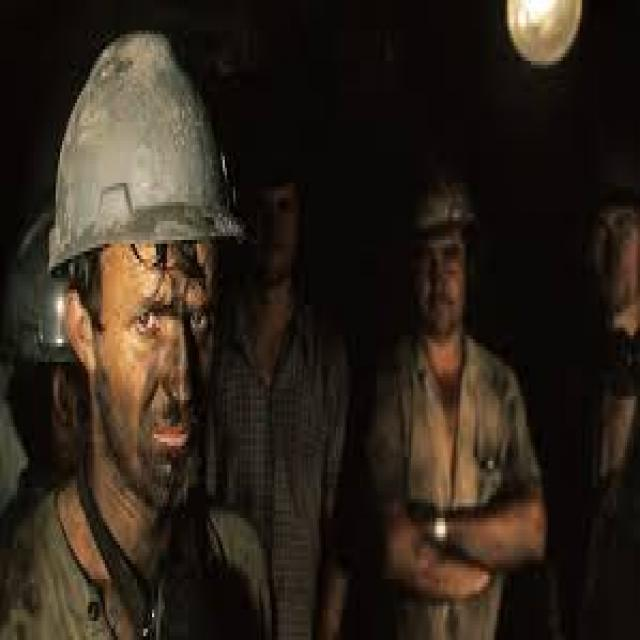No_Goggles: (101, 277, 212, 353)
Person: (30, 45, 237, 640)
